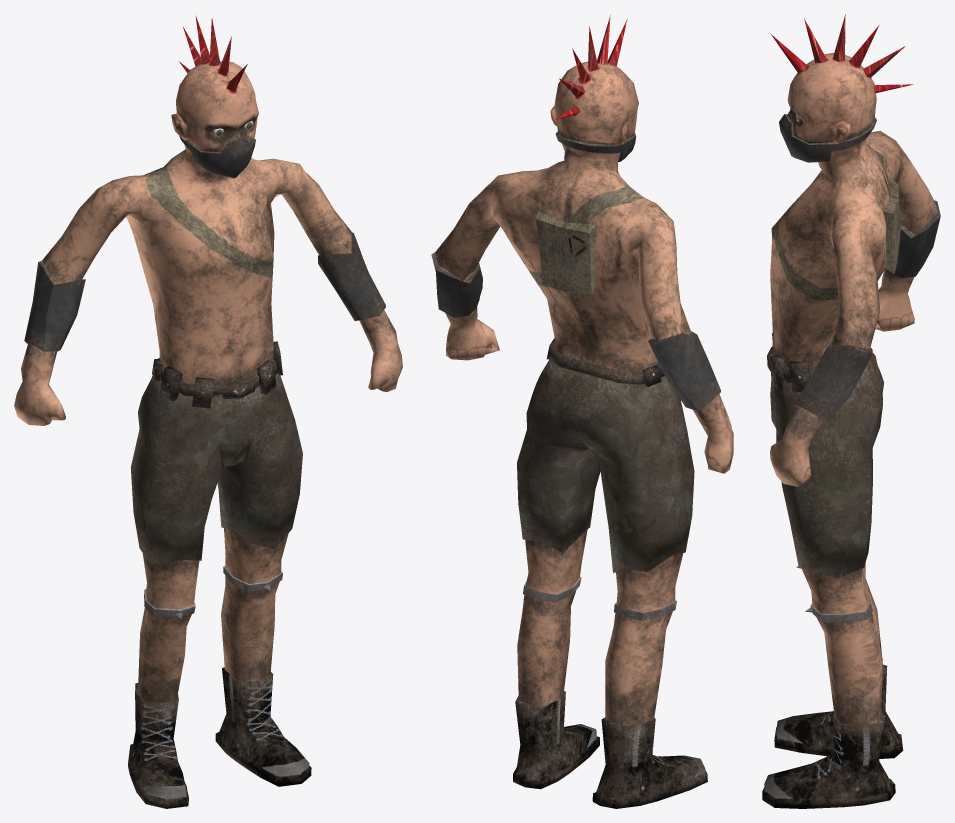
Rendered from Anim_arma_c_npc2.0015.obj.
The picture shows the model from 3 angles, left to right: view 1: azimuth 30°, elevation 25°; view 2: azimuth 150°, elevation 25°; view 3: azimuth 270°, elevation 25°; orthographic projection.
Parts seen in each view (by area): view 1: polySurface1; view 2: polySurface1; view 3: polySurface1.
Part boxes in pixels (x1,y1,x2,y2): polySurface1: [14, 15, 402, 808]; polySurface1: [431, 14, 733, 808]; polySurface1: [762, 14, 940, 808].
Size of the model in its own units: 4.74 by 10.16 by 2.16.
